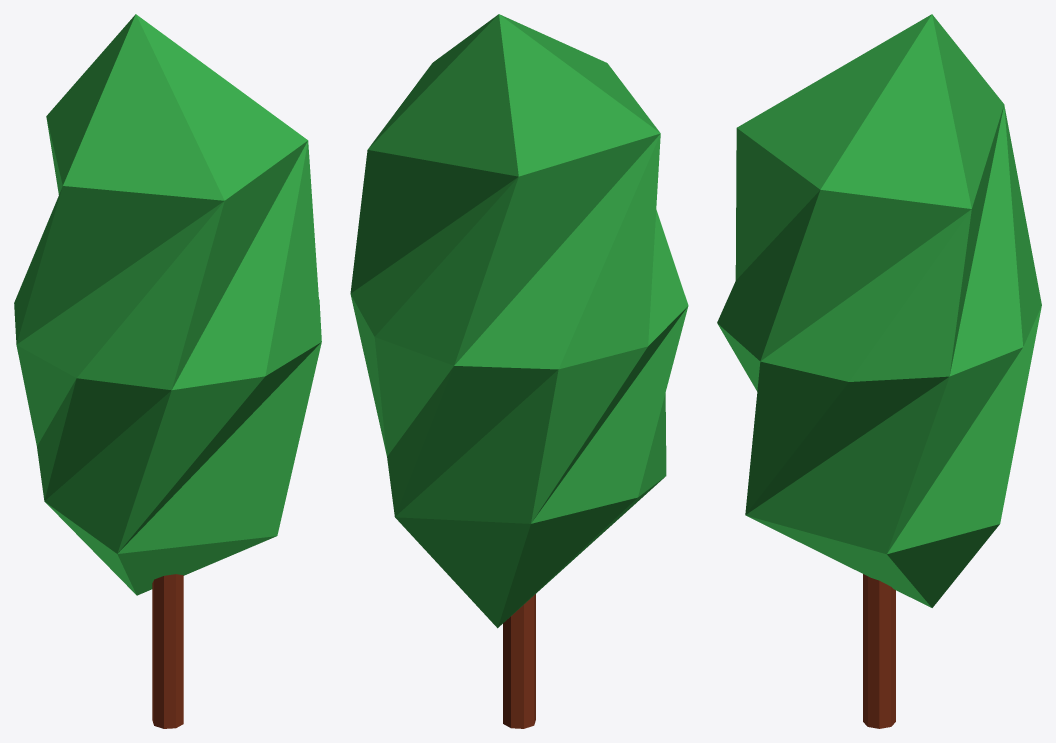
Rendered from tree.013.fbx.
3 renders of one model, left to right at view 1: azimuth 30°, elevation 25°; view 2: azimuth 150°, elevation 25°; view 3: azimuth 270°, elevation 25°, orthographic. The views are drawn at different scales.
Visible parts, largest first — view 1: Tree.013; view 2: Tree.013; view 3: Tree.013.
Part boxes in pixels (left/top/right/bottom): Tree.013: left=14, top=14, right=321, bottom=728; Tree.013: left=350, top=14, right=688, bottom=728; Tree.013: left=717, top=14, right=1041, bottom=728.
Size of the model in its own units: 393 by 949 by 397.
